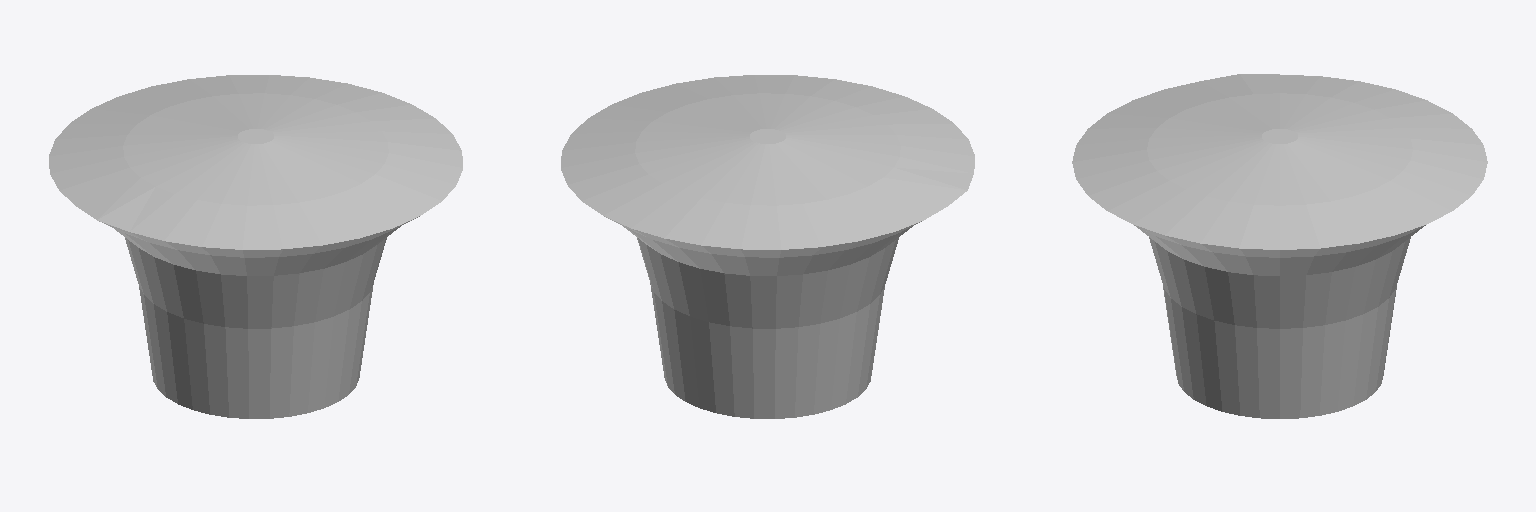
The model's file is Bullet.obj.
3 renders of one model, left to right at view 1: azimuth 30°, elevation 25°; view 2: azimuth 150°, elevation 25°; view 3: azimuth 270°, elevation 25°, orthographic.
Parts seen in each view (by area): view 1: Cone_Cone.001; view 2: Cone_Cone.001; view 3: Cone_Cone.001.
Boxes of the visible parts, x1=… form: Cone_Cone.001: x1=49, y1=75, x2=462, y2=418; Cone_Cone.001: x1=561, y1=75, x2=974, y2=418; Cone_Cone.001: x1=1072, y1=74, x2=1487, y2=418.
Bounding box in the file's own units: 3.52 × 2.23 × 3.52.